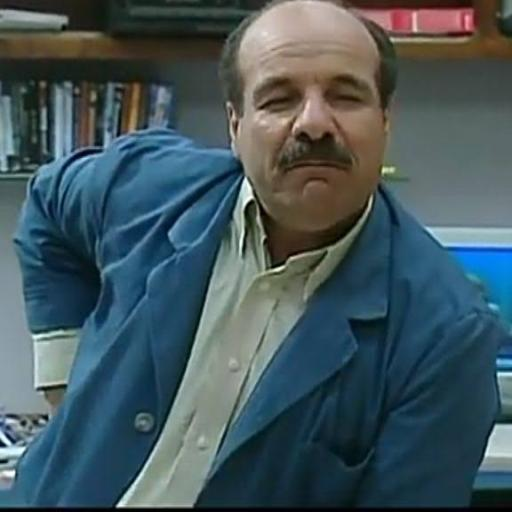beji_matrix: (220, 0, 396, 230)
